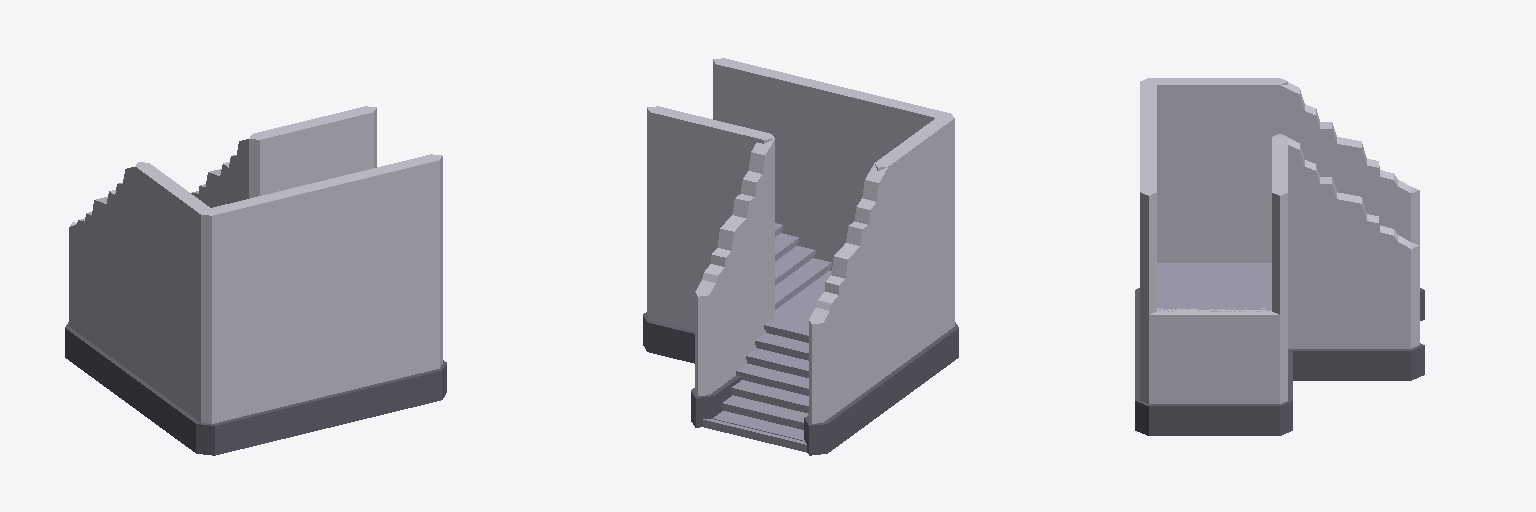
File: corner_stair_03.obj
3 views of the same model, side by side, from view 1: azimuth 30°, elevation 25°; view 2: azimuth 150°, elevation 25°; view 3: azimuth 270°, elevation 25° (orthographic).
Parts seen in each view (by area): view 1: wall_corner_8, corner_01_1, wall_straight_9, corner_01_2, wall_straight_10, wall_01_4, wall_ruined_10, wall_ruined_9; view 2: wall_corner_8, corner_01_8, wall_straight_10, wall_straight_9, wall_01_4, corner_01_1, stairs_07_5, wall_ruined_10, wall_ruined_9, corner_01_2, stairs_07_7, block_default_11 (+1 smaller); view 3: corner_01_2, corner_01_8, wall_corner_8, wall_ruined_9, corner_01_1, wall_ruined_10, block_default_11, wall_straight_9, wall_straight_10, wall_01_4, stairs_07_7.
Boxes of the visible parts, <box> form: wall_corner_8: <box>135,162,326,334</box>; corner_01_1: <box>131,286,327,455</box>; wall_straight_9: <box>315,154,442,306</box>; corner_01_2: <box>322,275,446,427</box>; wall_straight_10: <box>249,106,376,198</box>; wall_01_4: <box>65,237,134,405</box>; wall_ruined_10: <box>69,163,148,284</box>; wall_ruined_9: <box>191,136,261,207</box>; wall_corner_8: <box>829,86,954,284</box>; corner_01_8: <box>648,231,774,427</box>; wall_straight_10: <box>647,106,773,246</box>; wall_straight_9: <box>713,58,840,210</box>; wall_01_4: <box>804,286,892,455</box>; corner_01_1: <box>830,211,958,405</box>; stairs_07_5: <box>710,317,808,441</box>; wall_ruined_10: <box>809,162,888,334</box>; wall_ruined_9: <box>695,134,774,306</box>; corner_01_2: <box>643,198,829,351</box>; stairs_07_7: <box>775,223,831,309</box>; block_default_11: <box>775,271,831,324</box>; corner_01_2: <box>1135,308,1292,435</box>; corner_01_8: <box>1275,256,1424,404</box>; wall_corner_8: <box>1140,78,1287,203</box>; wall_ruined_9: <box>1276,134,1419,258</box>; corner_01_1: <box>1135,204,1271,346</box>; wall_ruined_10: <box>1277,79,1419,203</box>; block_default_11: <box>1157,263,1271,301</box>; wall_straight_9: <box>1140,134,1156,314</box>; wall_straight_10: <box>1272,134,1287,314</box>; wall_01_4: <box>1364,201,1424,320</box>; stairs_07_7: <box>1157,302,1271,311</box>.
Size of the model in its own units: 2.21 by 2 by 2.21.